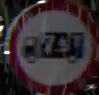Heavy Vehicles: (5, 4, 92, 94)
